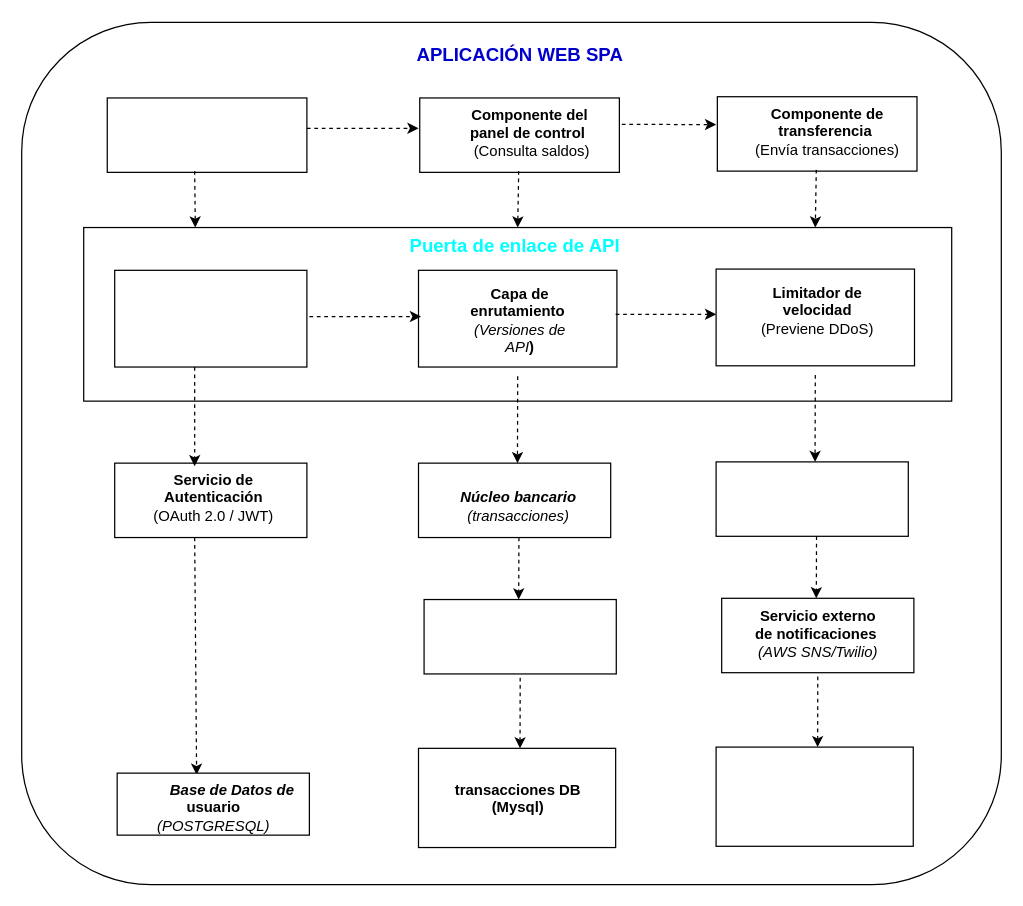
This 1023x906 diagram has some shape labels left out. The shapes that lost their labels are listed below. From the top down, each one's centre as x and y in pixels, then its label:
(x=206, y=134): Componente de registro (reaccionar/angular)
(x=210, y=318): Proxy de autenticación (Tokens de Valida)
(x=811, y=498): Información Complementaria (Perfil/contactos)
(x=519, y=636): registradorAuditoría (Patrón del observador)
(x=814, y=796): API de registrador (SMS/CORREO ELECTRÓNICO)
